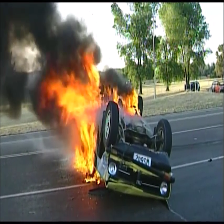fire_h: (40, 46, 104, 174), (120, 88, 141, 117)
fire_l: (103, 83, 119, 104), (84, 170, 100, 183)
